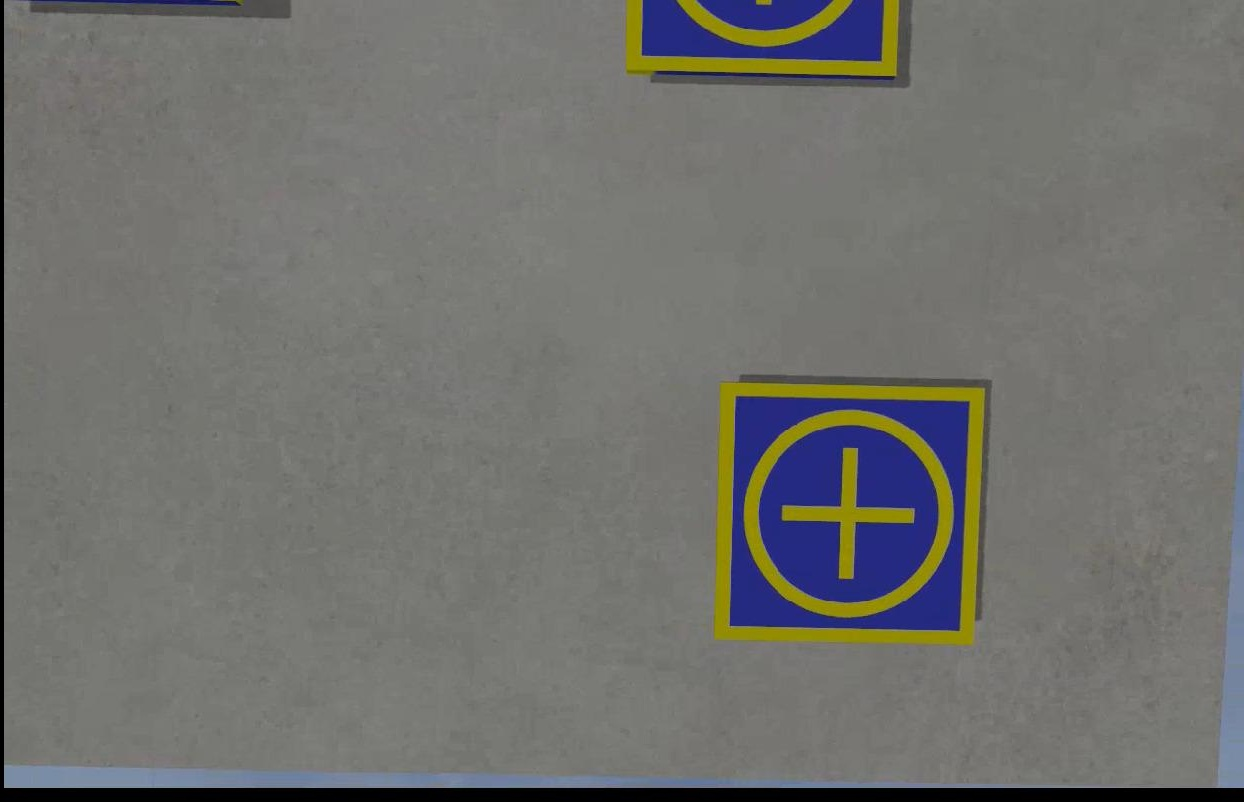small_base: (712, 385, 988, 645), (616, 1, 897, 82)
